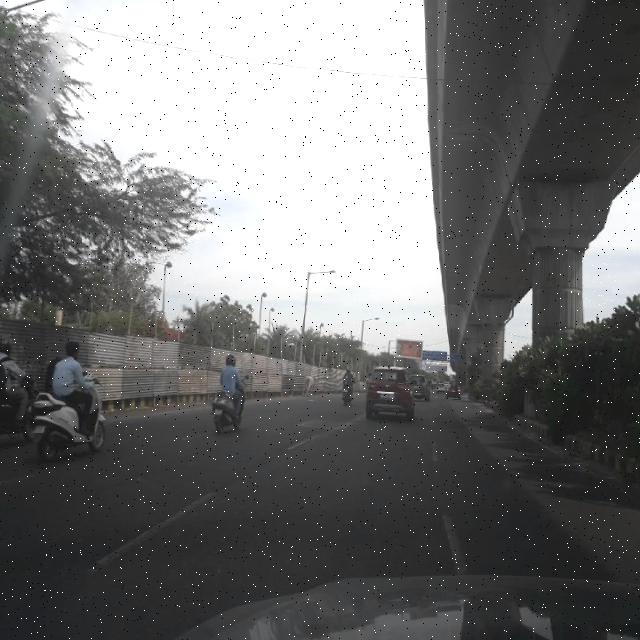D20: (121, 466, 442, 565)
D44: (84, 487, 216, 570)
